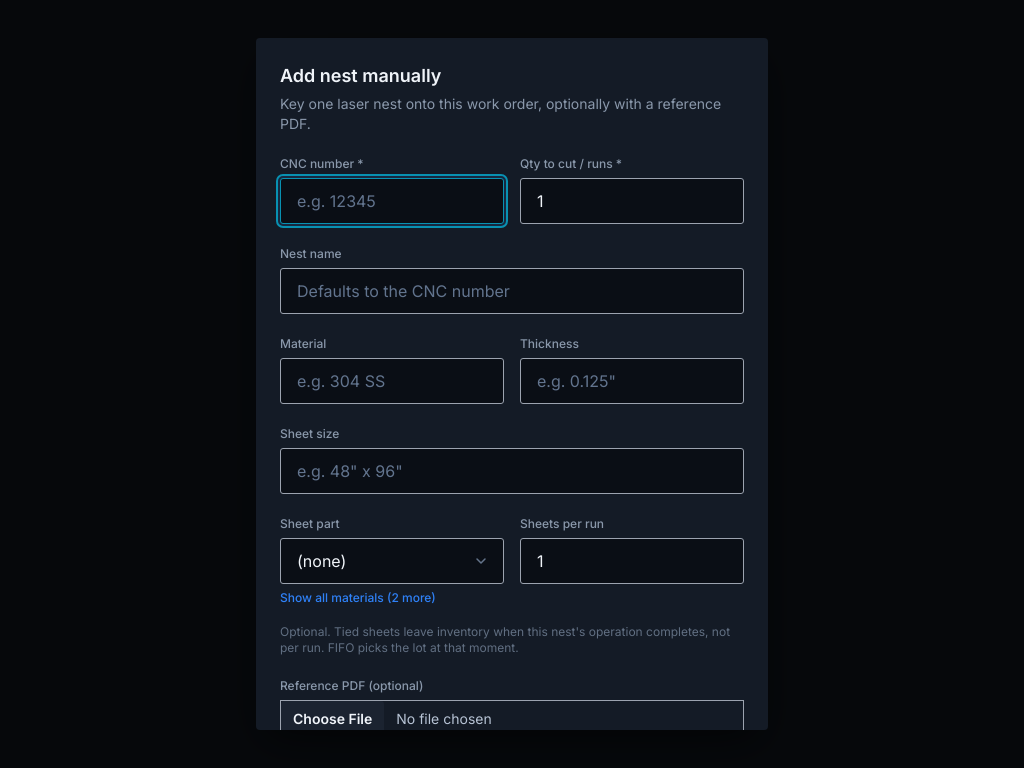
Scenario: sheet-part list: raw stock by default › does not blank a pick made through the escape hatch when the filter narrows again
The width and height of the screenshot is (1024, 768).
Check: the dropdown labelled "Sheet part" is shown, box [280,538,504,584]
Click the button "Show all materials (2 more)": (358, 598) [280,590,436,606]
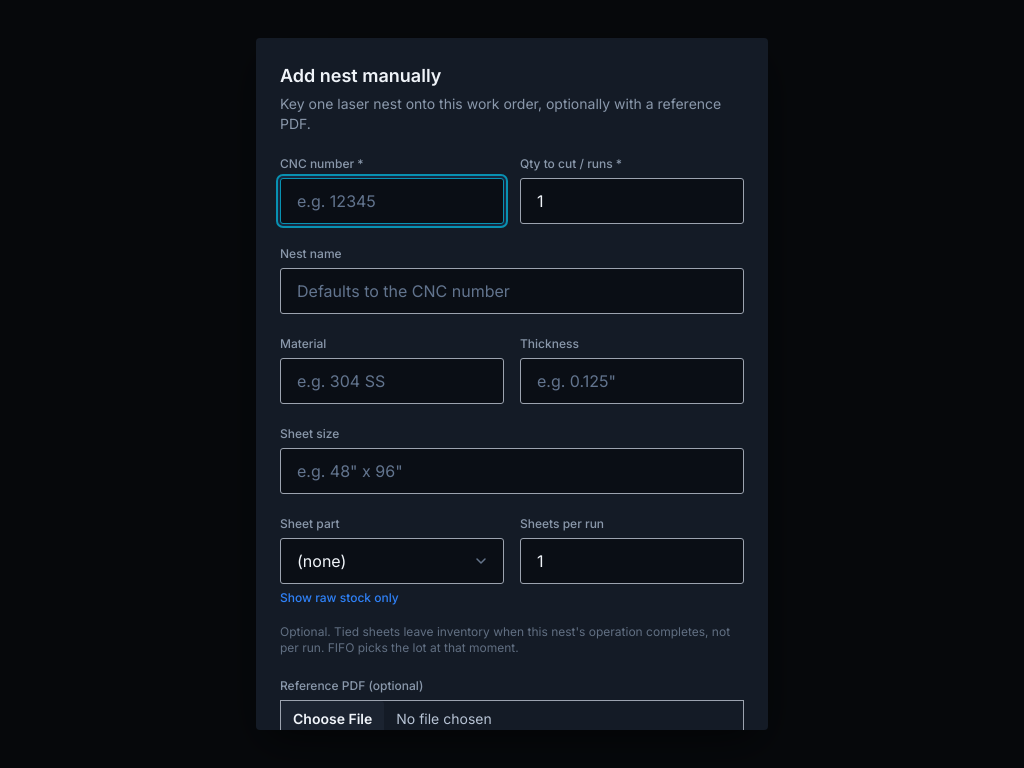
Select "SHT-CS-060 — CS 0.060 Sheet" in the dropdown labelled "Sheet part": (392, 561) [280,538,504,584]
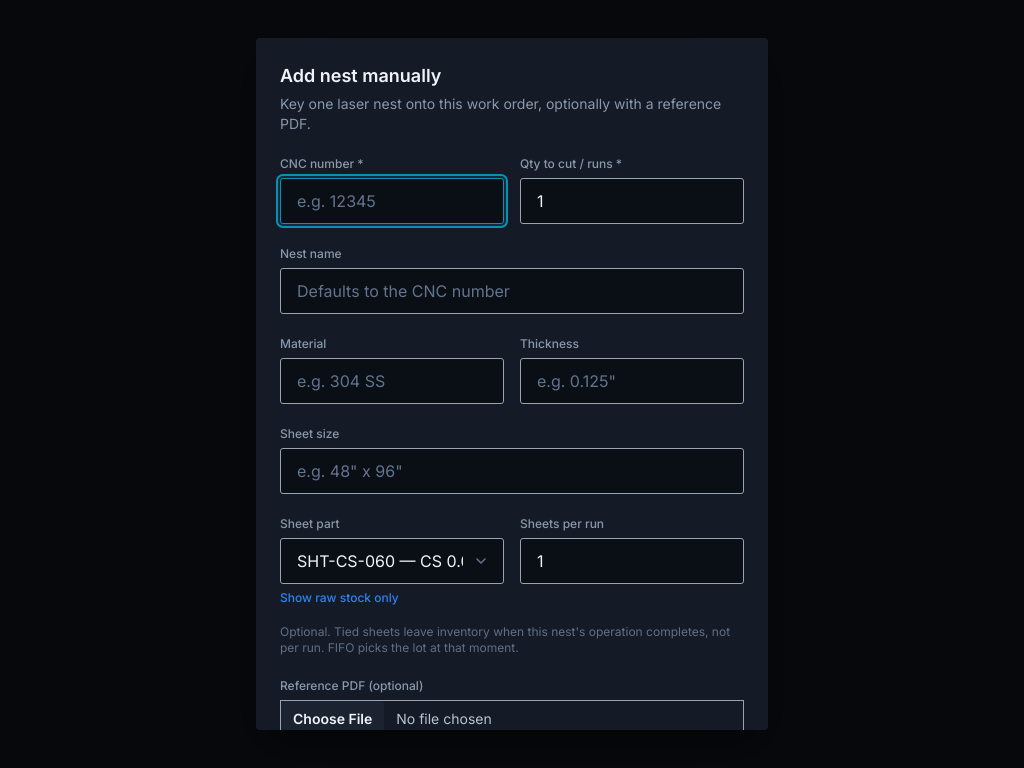
Click the button "Show raw stock only": (339, 598) [280,590,399,606]
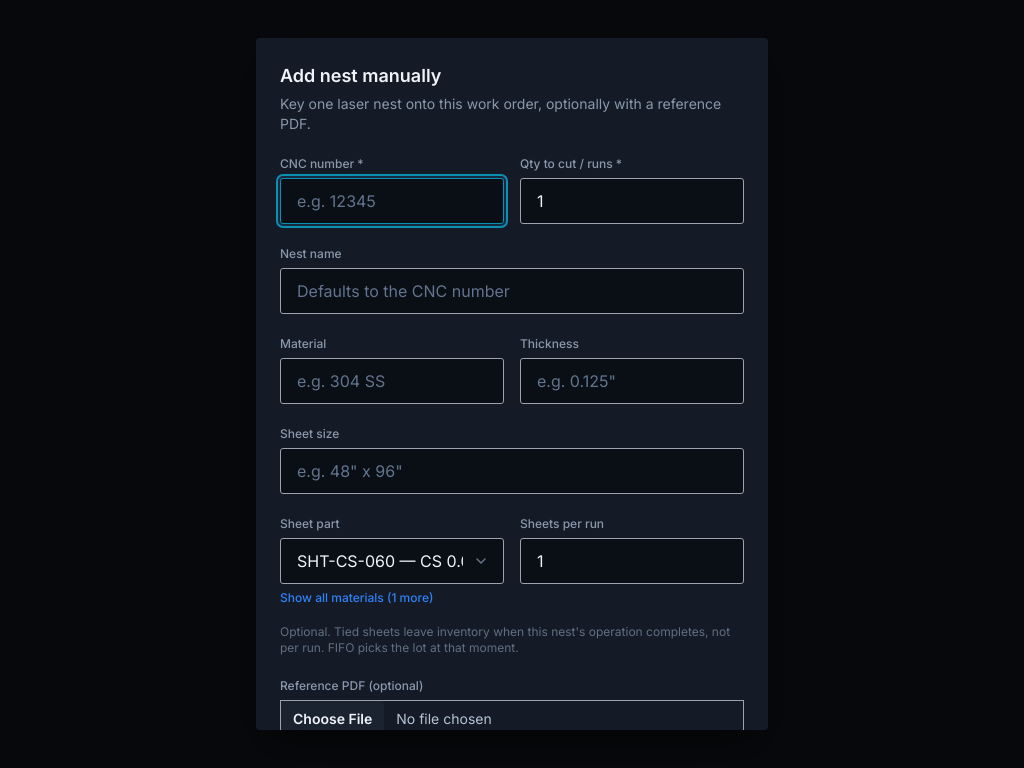
Check: the button "Show all materials (1 more)" is shown, box [280,590,433,606]
